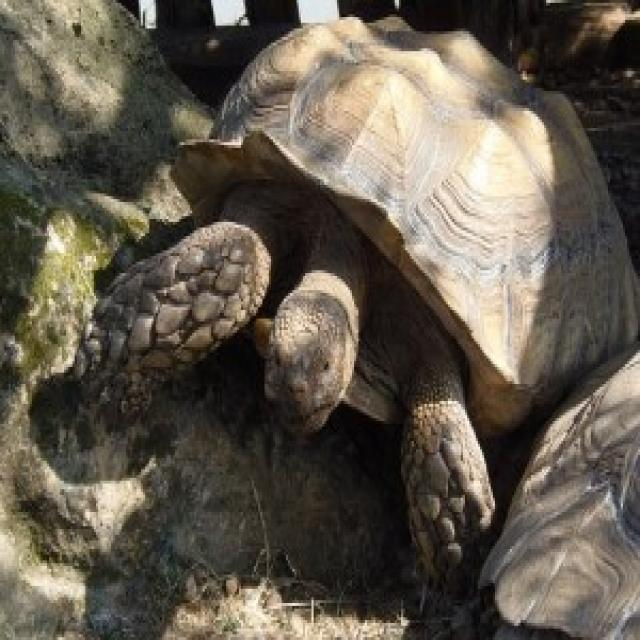Sea turtle: (138, 36, 640, 530)
